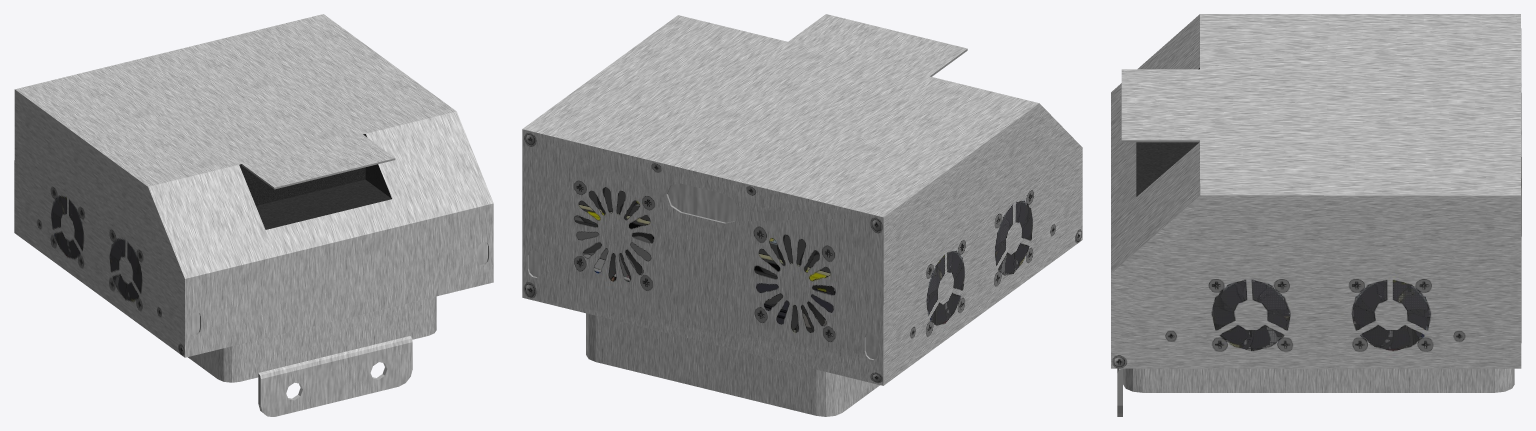
3 views of the same model, side by side, from view 1: azimuth 30°, elevation 25°; view 2: azimuth 150°, elevation 25°; view 3: azimuth 270°, elevation 25° (orthographic). The views are drawn at different scales.
Parts seen in each view (by area): view 1: Vagrant Bot; view 2: Vagrant Bot; view 3: Vagrant Bot.
Boxes of the visible parts, x1=… form: Vagrant Bot: x1=14, y1=14, x2=493, y2=416; Vagrant Bot: x1=522, y1=14, x2=1082, y2=416; Vagrant Bot: x1=1111, y1=14, x2=1521, y2=416.
Size of the model in its own units: 0.2196 by 0.2099 by 0.1545.
4 materials, 4 textured.
